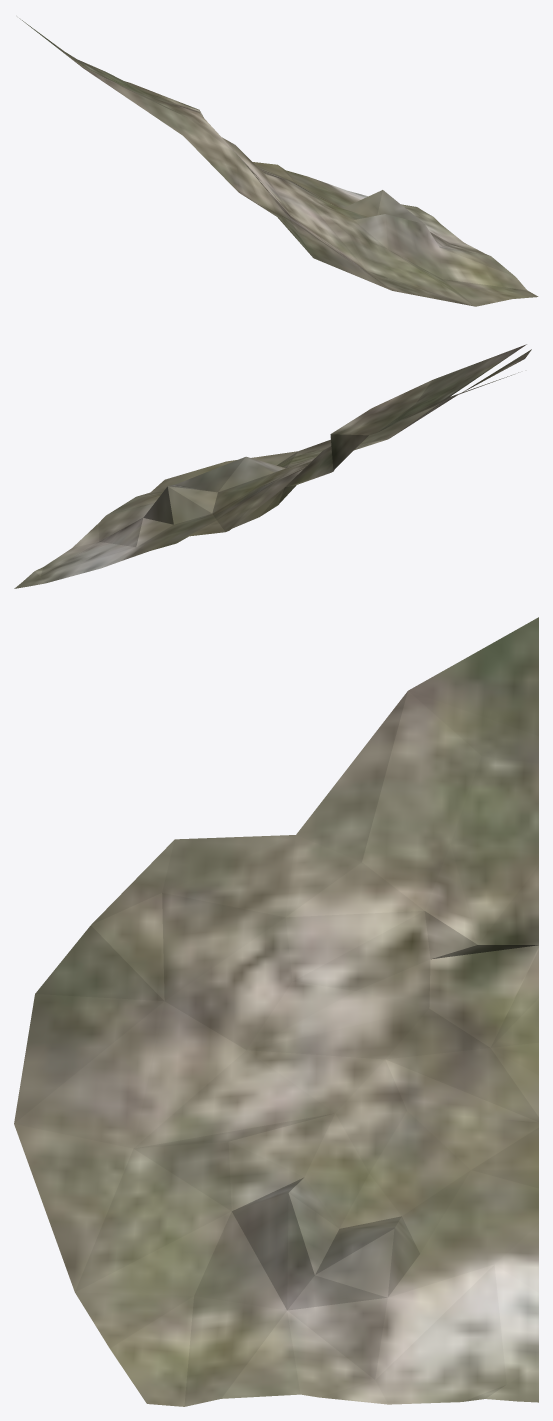
3 views of the same model, one above another, from view 1: azimuth 30°, elevation 25°; view 2: azimuth 150°, elevation 25°; view 3: azimuth 270°, elevation 25° (orthographic). The views are drawn at different scales.
Bounding box in the file's own units: 8.44 × 5.88 × 5.91.
Materials: 1 (1 with a texture image).
